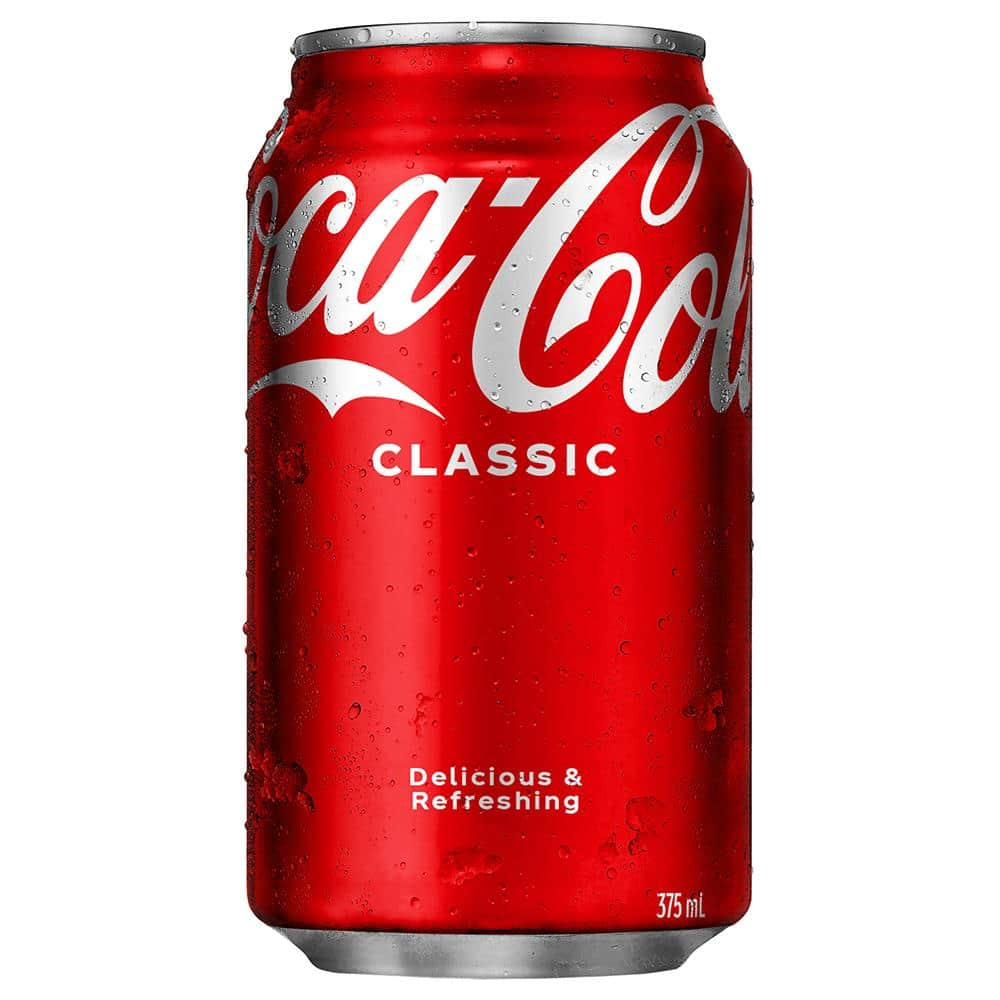cylinder: (247, 21, 754, 979)
